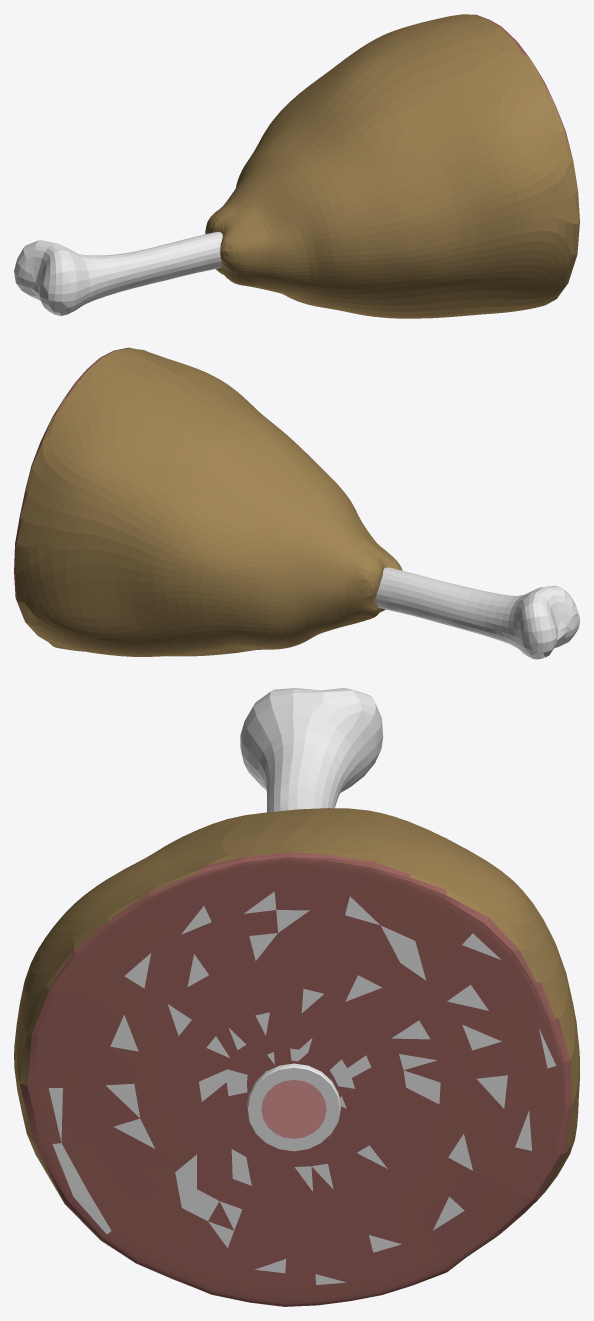
The model's file is HamGrenade.fbx.
3 views of the same model, one above another, from view 1: azimuth 30°, elevation 25°; view 2: azimuth 150°, elevation 25°; view 3: azimuth 270°, elevation 25° (orthographic). The views are drawn at different scales.
Visible parts, largest first — view 1: pSphere3; view 2: pSphere3; view 3: pSphere3.
Part boxes in pixels (x1=…): pSphere3: x1=14, y1=14, x2=579, y2=318; pSphere3: x1=14, y1=347, x2=579, y2=659; pSphere3: x1=14, y1=688, x2=579, y2=1306.
Size of the model in its own units: 1688 by 925 by 1045.
